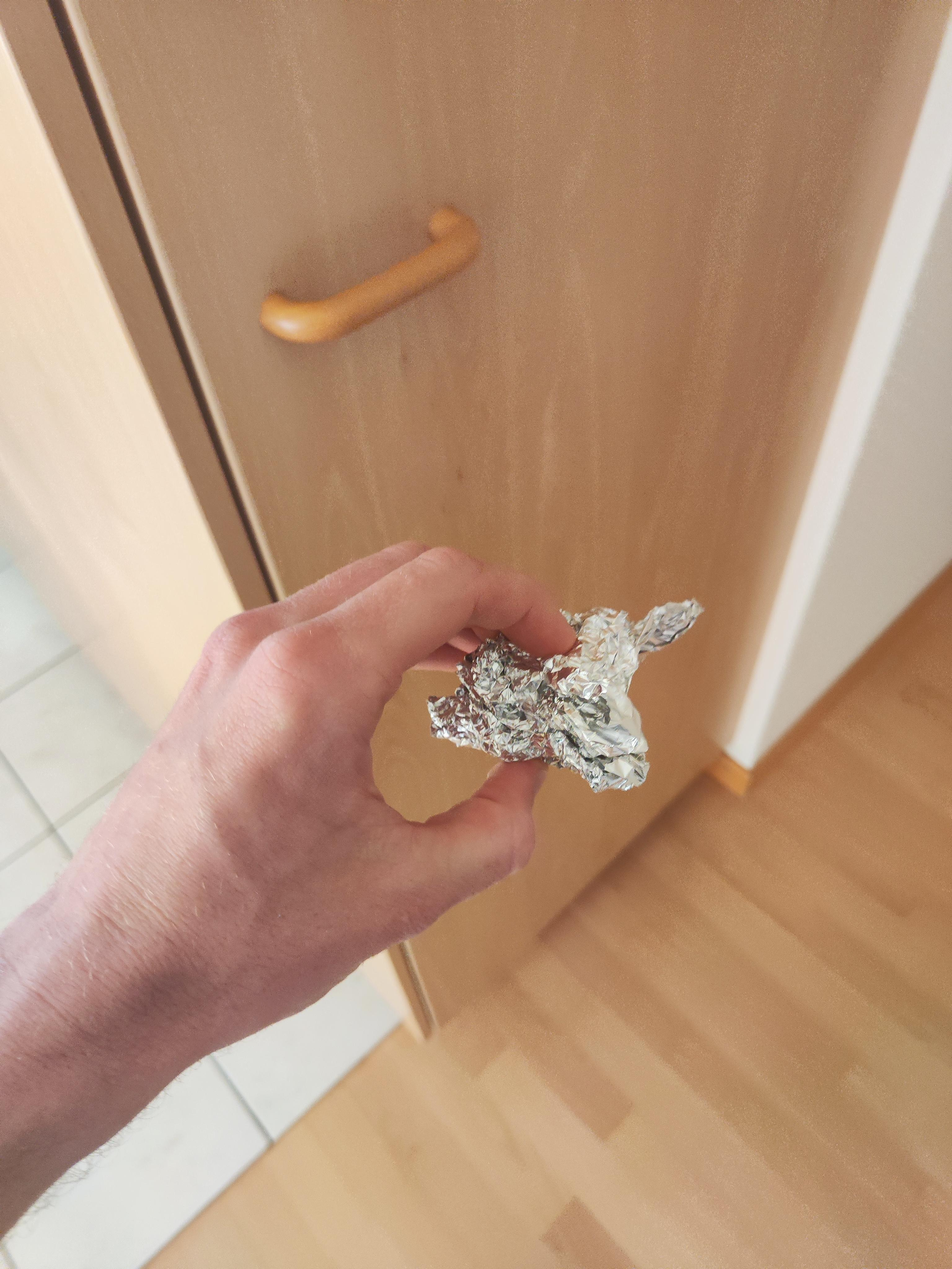Metal: (418, 587, 717, 811)
